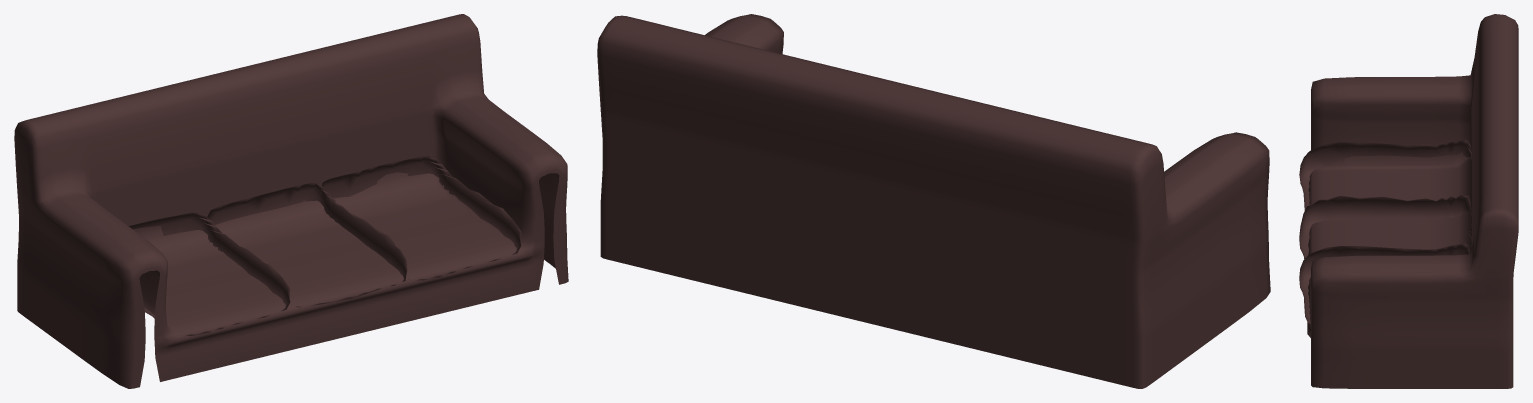
The model's file is sofa_brown_square.glb.
3 views of the same model, side by side, from view 1: azimuth 30°, elevation 25°; view 2: azimuth 150°, elevation 25°; view 3: azimuth 270°, elevation 25° (orthographic). The views are drawn at different scales.
Visible parts, largest first — view 1: Object_208; view 2: Object_208; view 3: Object_208.
Boxes of the visible parts, bbox=[...] form: Object_208: bbox=[14, 14, 568, 388]; Object_208: bbox=[597, 14, 1270, 388]; Object_208: bbox=[1299, 14, 1518, 388].
Bounding box in the file's own units: 3.86 × 1.58 × 1.79.
